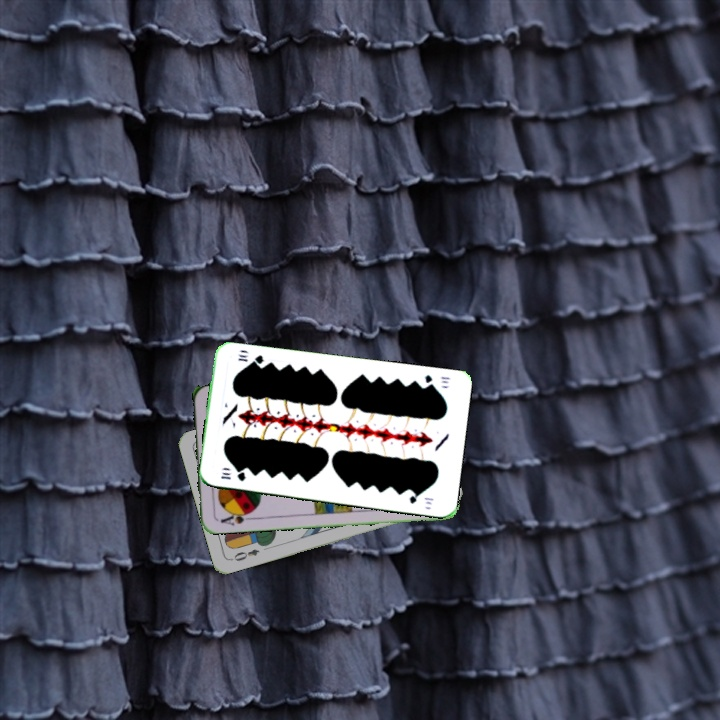EO: (227, 545, 262, 564)
G10: (421, 371, 453, 390), (217, 468, 248, 484)
SA: (217, 507, 255, 528)
